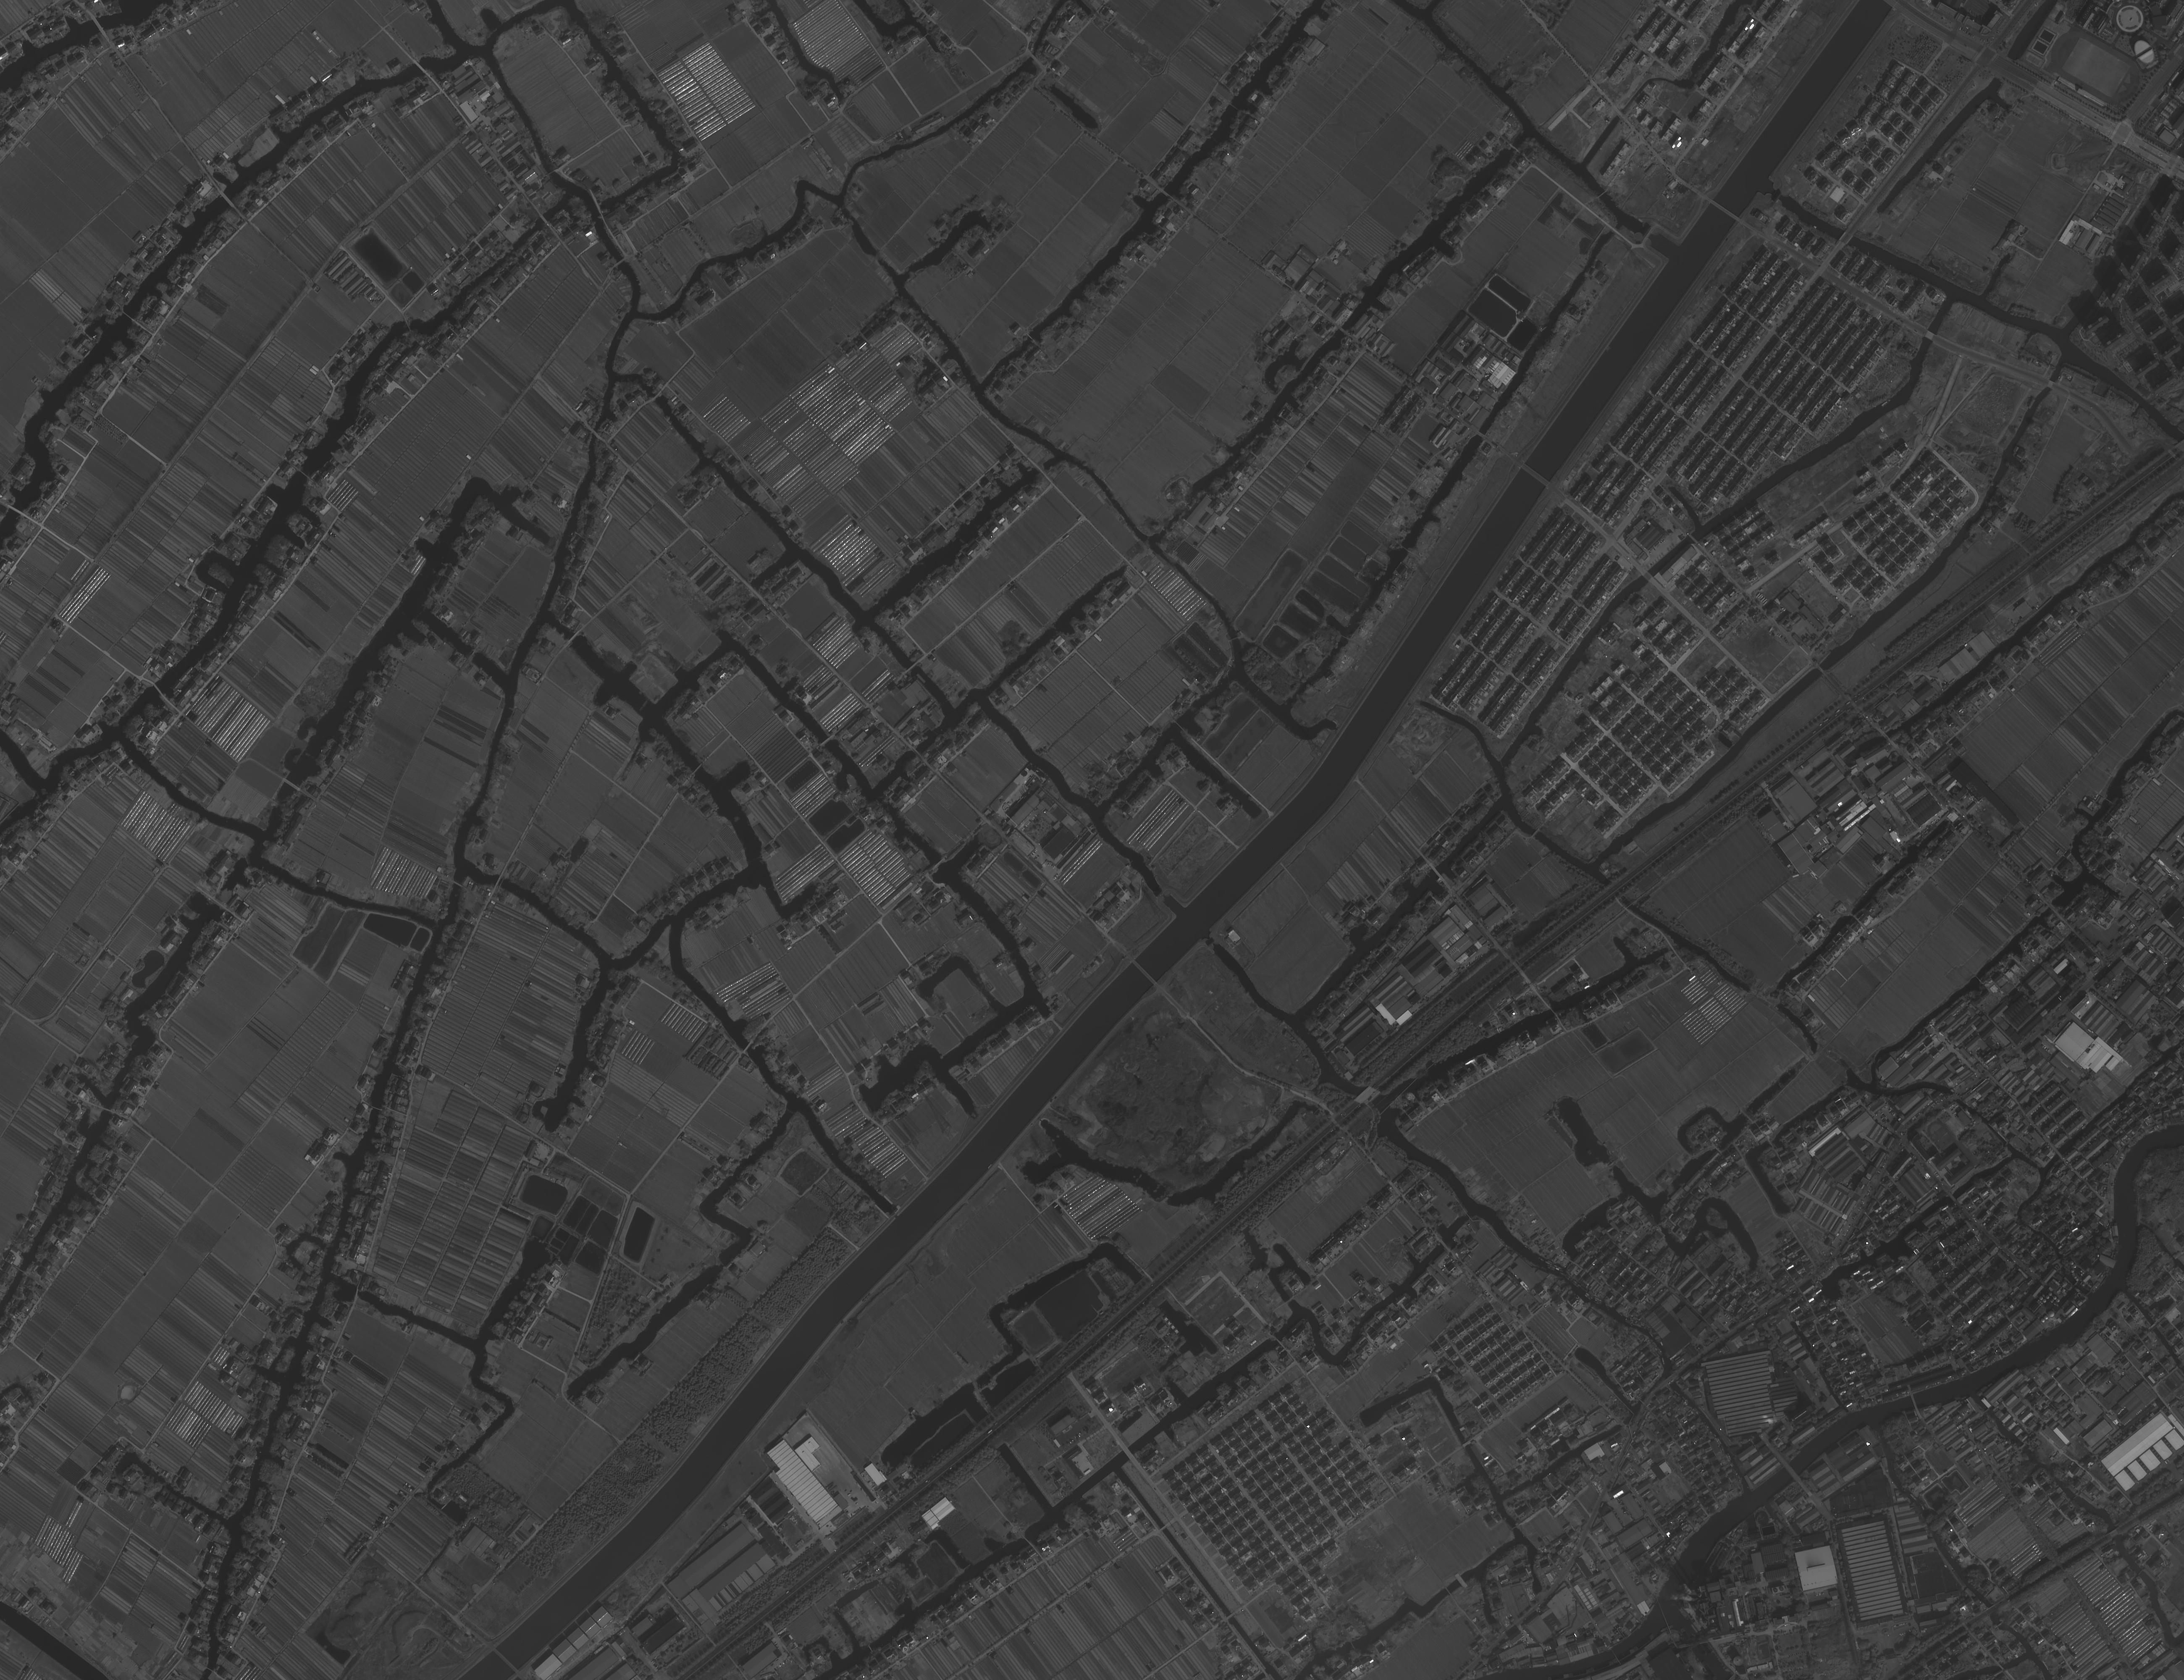ship: (916, 673, 927, 684)
